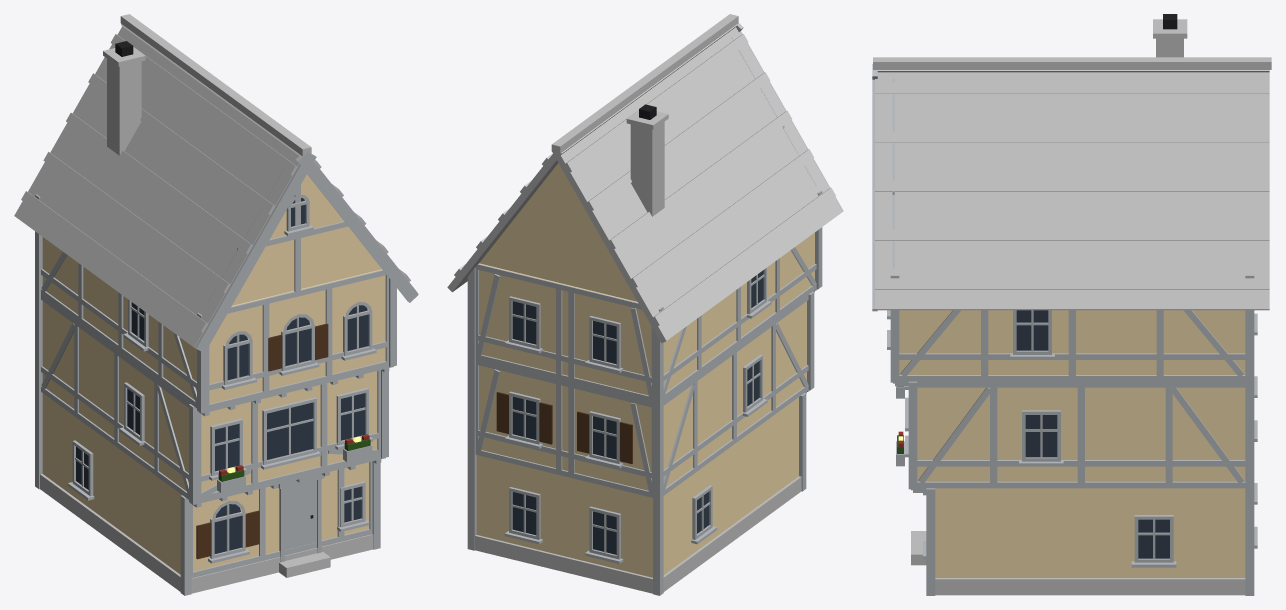
The model's file is tall_house.gltf.
3 renders of one model, left to right at view 1: azimuth 30°, elevation 25°; view 2: azimuth 150°, elevation 25°; view 3: azimuth 270°, elevation 25°, orthographic. The views are drawn at different scales.
Visible parts, largest first — view 1: tall_house; view 2: tall_house; view 3: tall_house.
Part boxes in pixels (<box>): tall_house: <box>14,14,418,595</box>; tall_house: <box>447,14,843,595</box>; tall_house: <box>872,14,1271,595</box>.
Size of the model in its own units: 7.1 by 13.87 by 10.02.
